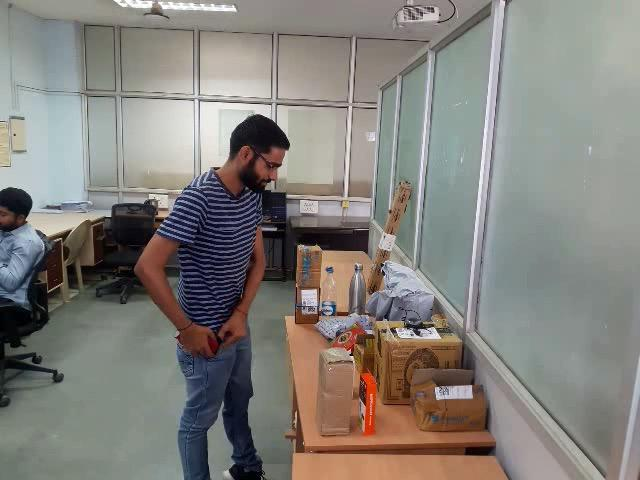Shoplifting: (125, 95, 325, 480)
